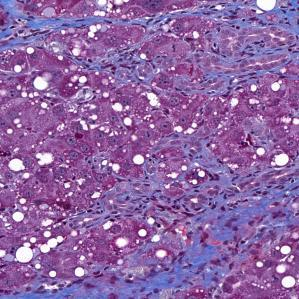fibrosis: (149, 12, 275, 86), (148, 150, 263, 231), (86, 247, 252, 299), (0, 0, 97, 58)
